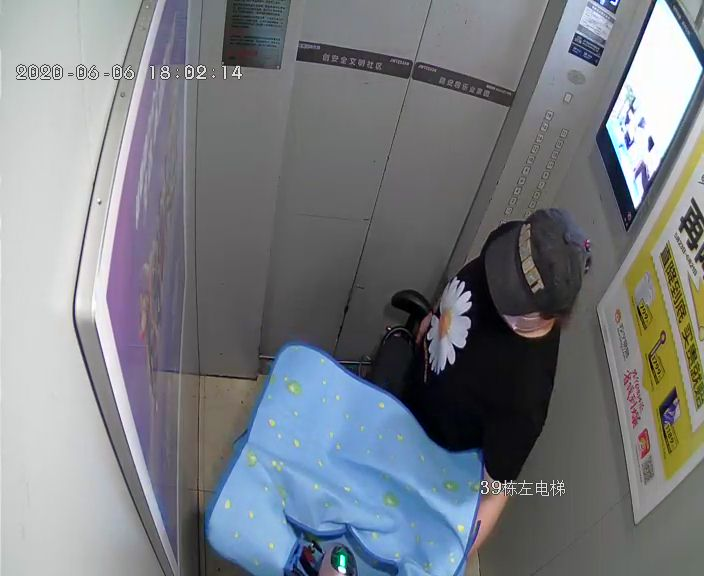Electric-bicycle: (320, 292, 432, 576)
